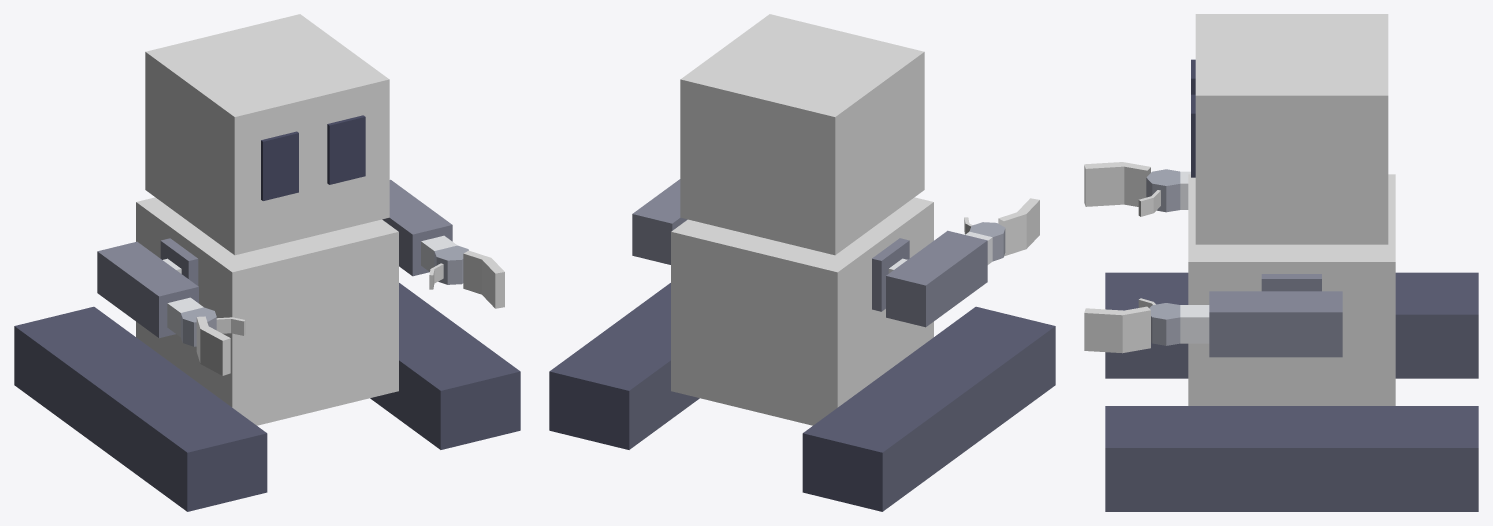
File: bill.glb
The picture shows the model from 3 angles, left to right: view 1: azimuth 30°, elevation 25°; view 2: azimuth 150°, elevation 25°; view 3: azimuth 270°, elevation 25°; orthographic projection. The views are drawn at different scales.
Visible parts, largest first — view 1: Head, Legs, Body, Arms; view 2: Head, Legs, Body, Arms; view 3: Legs, Head, Body, Arms.
Part boxes in pixels (box(x1,y1,x2,y2)): Head: box(145, 14, 389, 255); Legs: box(14, 283, 520, 511); Body: box(136, 197, 398, 425); Arms: box(97, 179, 504, 375); Head: box(680, 14, 924, 255); Legs: box(549, 283, 1055, 511); Body: box(671, 197, 933, 425); Arms: box(632, 179, 1039, 327); Legs: box(1105, 272, 1478, 511); Head: box(1191, 14, 1388, 244); Body: box(1188, 174, 1395, 405); Arms: box(1084, 162, 1342, 357).
Bounding box in the file's own units: 1 × 0.9824 × 0.9508.
